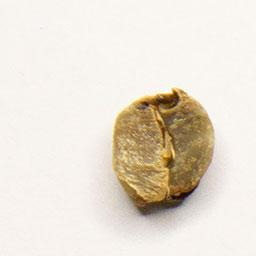defect: (107, 83, 219, 212)
